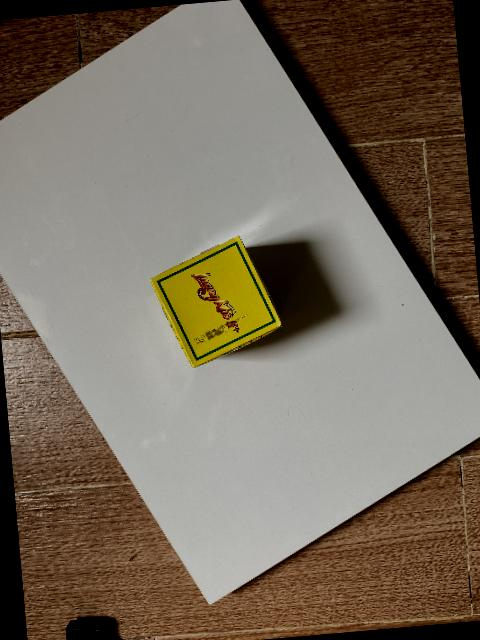luong_kho: (149, 235, 282, 368)
